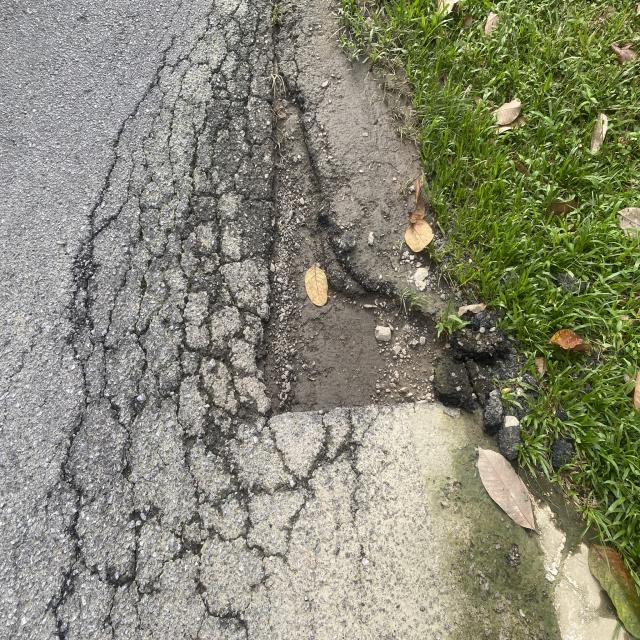pothole: (250, 60, 404, 445)
